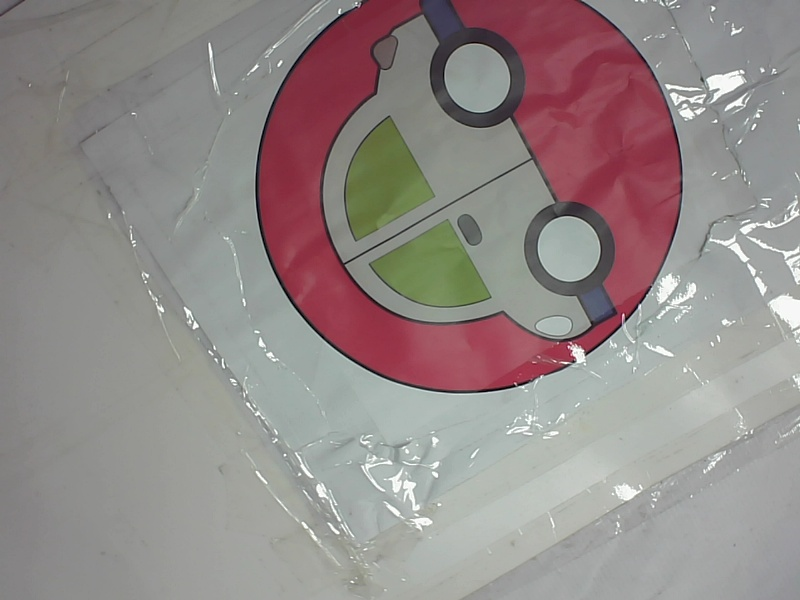areaC: (243, 4, 686, 386)
